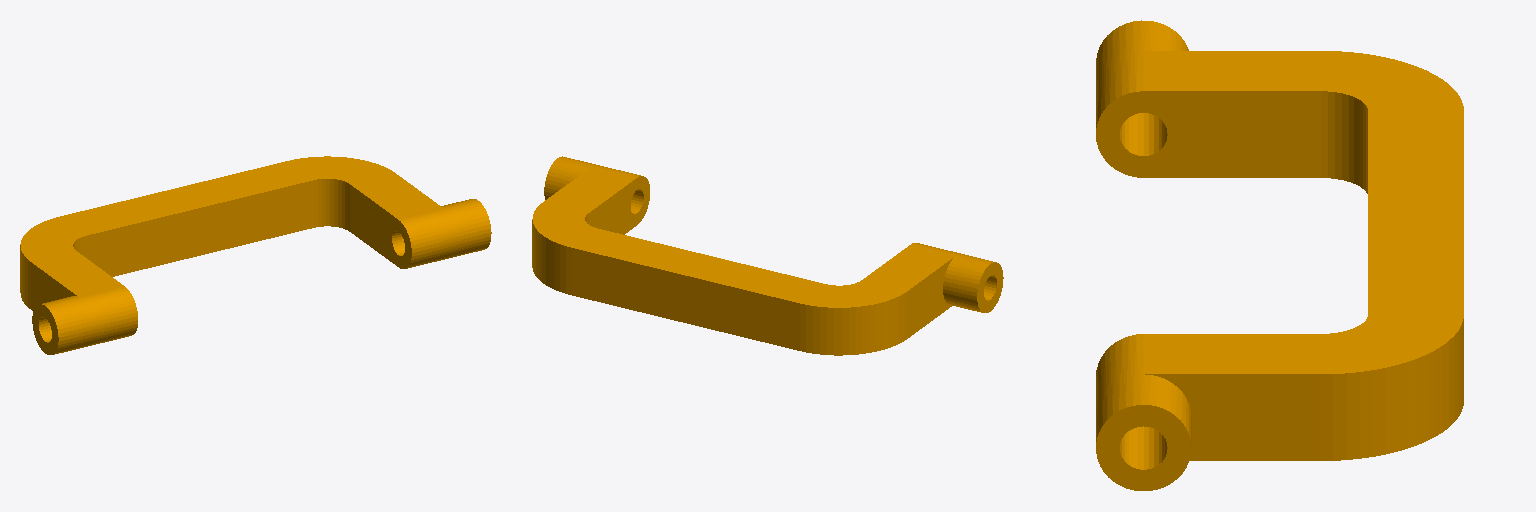
URDF robot description (arc):
<?xml version="1.0" ?>
<robot name="arc">
<mujoco>
 <compiler balanceinertia="true" discardvisual="false" meshdir="meshes" fusestatic="false"/>
</mujoco>


<link name="base_link">
  <inertial>
    <origin xyz="-4.446358453490468e-16 0.0 -0.0925000011920929" rpy="0 0 0"/>
    <mass value="0.09784755809877983"/>
    <inertia ixx="2.0646401351666452e-05" iyy="2.064640135162612e-05" izz="4.0885104544547944e-05" ixy="0.0" iyz="1.1155520951433571e-20" ixz="-5.577708611888632e-21"/>
  </inertial>
  <visual>
    <origin xyz="0 0 0" rpy="0 0 0"/>
    <geometry>
      <mesh filename="meshes/base_link.stl" scale="0.001 0.001 0.001"/>
    </geometry>
   
  </visual>
  <collision>
    <origin xyz="0 0 0" rpy="0 0 0"/>
    <geometry>
      <mesh filename="meshes/base_link.stl" scale="0.001 0.001 0.001"/>
    </geometry>
  </collision>
</link>

<link name="Component61">
  <inertial>
    <origin xyz="0.03596751974049151 0.020765857204253942 0.04240288032374495" rpy="0 0 0"/>
    <mass value="0.10551215172665522"/>
    <inertia ixx="0.00011955857437937124" iyy="0.00014722022969914934" izz="5.708624960713347e-05" ixy="-2.3955696217679994e-05" iyz="-3.3935452350980397e-05" ixz="-5.8777927649749086e-05"/>
  </inertial>
  <visual>
    <origin xyz="-0.0 -0.0 0.09" rpy="0 0 0"/>
    <geometry>
      <mesh filename="meshes/Component61.stl" scale="0.001 0.001 0.001"/>
    </geometry>
    
  </visual>
  <collision>
    <origin xyz="-0.0 -0.0 0.09" rpy="0 0 0"/>
    <geometry>
      <mesh filename="meshes/Component61.stl" scale="0.001 0.001 0.001"/>
    </geometry>
  </collision>
</link>

<link name="Component51">
  <inertial>
    <origin xyz="-0.03600882796247614 0.020789706517340707 0.03703620926145512" rpy="0 0 0"/>
    <mass value="0.09804833652544621"/>
    <inertia ixx="9.397493558307404e-05" iyy="0.00011998679024226202" izz="5.3662251366276917e-05" ixy="2.2526926934321746e-05" iyz="-2.825687303096527e-05" ixz="4.89423397526383e-05"/>
  </inertial>
  <visual>
    <origin xyz="-0.0 -0.0 0.08" rpy="0 0 0"/>
    <geometry>
      <mesh filename="meshes/Component51.stl" scale="0.001 0.001 0.001"/>
    </geometry>
    
  </visual>
  <collision>
    <origin xyz="-0.0 -0.0 0.08" rpy="0 0 0"/>
    <geometry>
      <mesh filename="meshes/Component51.stl" scale="0.001 0.001 0.001"/>
    </geometry>
  </collision>
</link>

<link name="Component41">
  <inertial>
    <origin xyz="0.0 -0.0385180391859555 0.031020956607677265" rpy="0 0 0"/>
    <mass value="0.0928425764475088"/>
    <inertia ixx="9.54535848173804e-05" iyy="4.983239952996066e-05" izz="4.7172964667192916e-05" ixy="2.788880237858393e-21" iyz="4.2894078663398765e-05" ixz="-2.2032153879081305e-19"/>
  </inertial>
  <visual>
    <origin xyz="-0.0 -0.0 0.07" rpy="0 0 0"/>
    <geometry>
      <mesh filename="meshes/Component41.stl" scale="0.001 0.001 0.001"/>
    </geometry>
   
  </visual>
  <collision>
    <origin xyz="-0.0 -0.0 0.07" rpy="0 0 0"/>
    <geometry>
      <mesh filename="meshes/Component41.stl" scale="0.001 0.001 0.001"/>
    </geometry>
  </collision>
</link>

<link name="Component22">
  <inertial>
    <origin xyz="-0.03897244256448334 0.016246247079762514 7.450529776464876e-11" rpy="0 0 0"/>
    <mass value="0.07918854609130822"/>
    <inertia ixx="8.591238526820785e-06" iyy="5.5104196269509366e-05" izz="6.237778738499633e-05" ixy="1.3427134336776761e-05" iyz="-7.013432803265607e-19" ixz="1.4738373282224826e-18"/>
  </inertial>
  <visual>
    <origin xyz="-0.051269 -0.0296 -0.005" rpy="0 0 0"/>
    <geometry>
      <mesh filename="meshes/Component22.stl" scale="0.001 0.001 0.001"/>
    </geometry>
   
  </visual>
  <collision>
    <origin xyz="-0.051269 -0.0296 -0.005" rpy="0 0 0"/>
    <geometry>
      <mesh filename="meshes/Component22.stl" scale="0.001 0.001 0.001"/>
    </geometry>
  </collision>
</link>

<link name="Component23">
  <inertial>
    <origin xyz="0.00541670664298919 -0.04187399242162941 7.450529776464876e-11" rpy="0 0 0"/>
    <mass value="0.07918854609130822"/>
    <inertia ixx="5.5104196269512185e-05" iyy="8.591238526817993e-06" izz="6.237778738499652e-05" ixy="1.3427134336771842e-05" iyz="1.6263032587282567e-18" ixz="-1.3552527156068805e-19"/>
  </inertial>
  <visual>
    <origin xyz="0.051269 -0.0296 -0.005" rpy="0 0 0"/>
    <geometry>
      <mesh filename="meshes/Component23.stl" scale="0.001 0.001 0.001"/>
    </geometry>
   
  </visual>
  <collision>
    <origin xyz="0.051269 -0.0296 -0.005" rpy="0 0 0"/>
    <geometry>
      <mesh filename="meshes/Component23.stl" scale="0.001 0.001 0.001"/>
    </geometry>
  </collision>
</link>

<link name="Component21">
  <inertial>
    <origin xyz="0.03355573592149417 0.025627745341866903 7.450529949937224e-11" rpy="0 0 0"/>
    <mass value="0.07918854609130822"/>
    <inertia ixx="3.184771739816226e-05" iyy="3.1847717398167884e-05" izz="6.237778738499625e-05" ixy="-2.6854268673548576e-05" iyz="-9.24959978401696e-19" ixz="-1.3433942543453203e-18"/>
  </inertial>
  <visual>
    <origin xyz="-0.0 0.0592 -0.005" rpy="0 0 0"/>
    <geometry>
      <mesh filename="meshes/Component21.stl" scale="0.001 0.001 0.001"/>
    </geometry>
   
  </visual>
  <collision>
    <origin xyz="-0.0 0.0592 -0.005" rpy="0 0 0"/>
    <geometry>
      <mesh filename="meshes/Component21.stl" scale="0.001 0.001 0.001"/>
    </geometry>
  </collision>
</link>

<link name="Component31">
  <inertial>
    <origin xyz="-0.05865893720009844 -0.0007005496038504165 -2.189324712046671e-05" rpy="0 0 0"/>
    <mass value="0.2085169107671189"/>
    <inertia ixx="0.00017308832181553362" iyy="0.00017629460332713412" izz="0.0003459925210703732" ixy="-3.889260441593021e-06" iyz="1.670060399488525e-09" ixz="-1.8936287880571178e-09"/>
  </inertial>
  <visual>
    <origin xyz="-0.059183 3.3e-05 -0.005" rpy="0 0 0"/>
    <geometry>
      <mesh filename="meshes/Component31.stl" scale="0.001 0.001 0.001"/>
    </geometry>
    
  </visual>
  <collision>
    <origin xyz="-0.059183 3.3e-05 -0.005" rpy="0 0 0"/>
    <geometry>
      <mesh filename="meshes/Component31.stl" scale="0.001 0.001 0.001"/>
    </geometry>
  </collision>
</link>

<joint name="Rigid_1" type="fixed">
  <origin xyz="0.0 0.0 -0.09" rpy="0 0 0"/>
  <parent link="base_link"/>
  <child link="Component61"/>
</joint>

<joint name="Revolute_2" type="continuous">
  <origin xyz="0.0 0.0 0.01" rpy="0 0 0"/>
  <parent link="Component61"/>
  <child link="Component51"/>
  <axis xyz="0.0 0.0 -1.0"/>
</joint>
<transmission name="Revolute_2_tran">
  <type>transmission_interface/SimpleTransmission</type>
  <joint name="Revolute_2">
    <hardwareInterface>PositionJointInterface</hardwareInterface>
  </joint>
  <actuator name="Revolute_2_actr">
    <hardwareInterface>PositionJointInterface</hardwareInterface>
    <mechanicalReduction>1</mechanicalReduction>
  </actuator>
</transmission>

<joint name="Revolute_3" type="continuous">
  <origin xyz="0.0 0.0 0.01" rpy="0 0 0"/>
  <parent link="Component51"/>
  <child link="Component41"/>
  <axis xyz="0.0 0.0 -1.0"/>
</joint>
<transmission name="Revolute_3_tran">
  <type>transmission_interface/SimpleTransmission</type>
  <joint name="Revolute_3">
    <hardwareInterface>PositionJointInterface</hardwareInterface>
  </joint>
  <actuator name="Revolute_3_actr">
    <hardwareInterface>PositionJointInterface</hardwareInterface>
    <mechanicalReduction>1</mechanicalReduction>
  </actuator>
</transmission>

<joint name="Revolute_4" type="continuous">
  <origin xyz="0.051269 0.0296 0.095" rpy="0 0 0"/>
  <parent link="Component61"/>
  <child link="Component22"/>
  <axis xyz="0.866025 0.5 0.0"/>
</joint>
<transmission name="Revolute_4_tran">
  <type>transmission_interface/SimpleTransmission</type>
  <joint name="Revolute_4">
    <hardwareInterface>PositionJointInterface</hardwareInterface>
  </joint>
  <actuator name="Revolute_4_actr">
    <hardwareInterface>PositionJointInterface</hardwareInterface>
    <mechanicalReduction>1</mechanicalReduction>
  </actuator>
</transmission>

<joint name="Revolute_5" type="continuous">
  <origin xyz="-0.051269 0.0296 0.085" rpy="0 0 0"/>
  <parent link="Component51"/>
  <child link="Component23"/>
  <axis xyz="-0.866025 0.5 0.0"/>
</joint>
<transmission name="Revolute_5_tran">
  <type>transmission_interface/SimpleTransmission</type>
  <joint name="Revolute_5">
    <hardwareInterface>PositionJointInterface</hardwareInterface>
  </joint>
  <actuator name="Revolute_5_actr">
    <hardwareInterface>PositionJointInterface</hardwareInterface>
    <mechanicalReduction>1</mechanicalReduction>
  </actuator>
</transmission>

<joint name="Revolute_6" type="continuous">
  <origin xyz="0.0 -0.0592 0.075" rpy="0 0 0"/>
  <parent link="Component41"/>
  <child link="Component21"/>
  <axis xyz="0.0 -1.0 0.0"/>
</joint>
<transmission name="Revolute_6_tran">
  <type>transmission_interface/SimpleTransmission</type>
  <joint name="Revolute_6">
    <hardwareInterface>PositionJointInterface</hardwareInterface>
  </joint>
  <actuator name="Revolute_6_actr">
    <hardwareInterface>PositionJointInterface</hardwareInterface>
    <mechanicalReduction>1</mechanicalReduction>
  </actuator>
</transmission>

<joint name="Revolute_7" type="continuous">
  <origin xyz="0.059183 0.059167 0.0" rpy="0 0 0"/>
  <parent link="Component21"/>
  <child link="Component31"/>
  <axis xyz="-1.0 0.0 0.0"/>
</joint>
<transmission name="Revolute_7_tran">
  <type>transmission_interface/SimpleTransmission</type>
  <joint name="Revolute_7">
    <hardwareInterface>PositionJointInterface</hardwareInterface>
  </joint>
  <actuator name="Revolute_7_actr">
    <hardwareInterface>PositionJointInterface</hardwareInterface>
    <mechanicalReduction>1</mechanicalReduction>
  </actuator>
</transmission>

</robot>

--- Render facts (derived) ---
Views: 3 orthographic renders of the robot side by side, from view 1: azimuth 30°, elevation 25°; view 2: azimuth 150°, elevation 25°; view 3: azimuth 270°, elevation 25°.
Robot: arc — 8 links, 7 joints (6 continuous, 1 fixed); root link base_link; default pose: all joints at 0.
Visible links, largest first — view 1: base_link; view 2: base_link; view 3: base_link.
Boxes of the visible links, bbox=[...] form: base_link: bbox=[20, 156, 491, 354]; base_link: bbox=[532, 156, 1003, 355]; base_link: bbox=[1096, 20, 1463, 490].
Bounding box of the posed robot: 0.19 × 0.0769 × 0.02 m (x, y, z).
Meshes: 8 distinct files referenced, 1 mesh visuals loaded (1 binary STL); not drawn: 7 (reference not matched to a file when rendering).